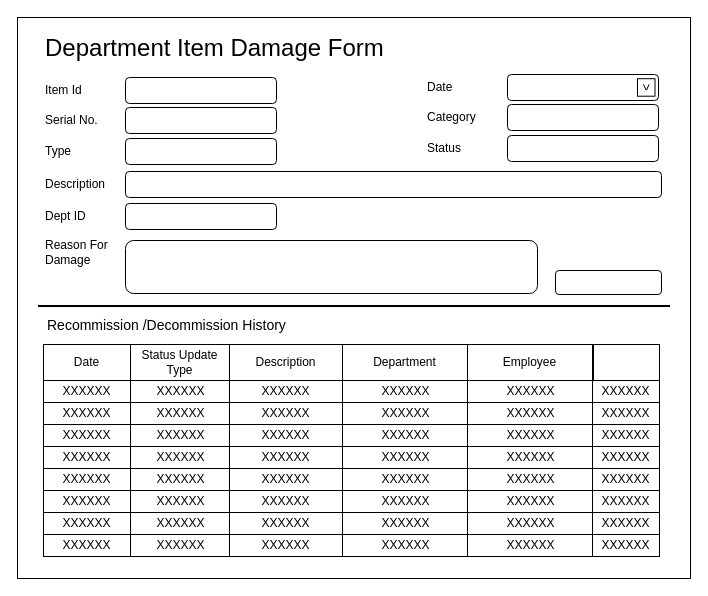
Some shapes in this 708 by 596 pixel diagram are drawn without their labels. Each missing label, with the centre of its shape:
Admin: point 626,362
Create Report: point 608,282
